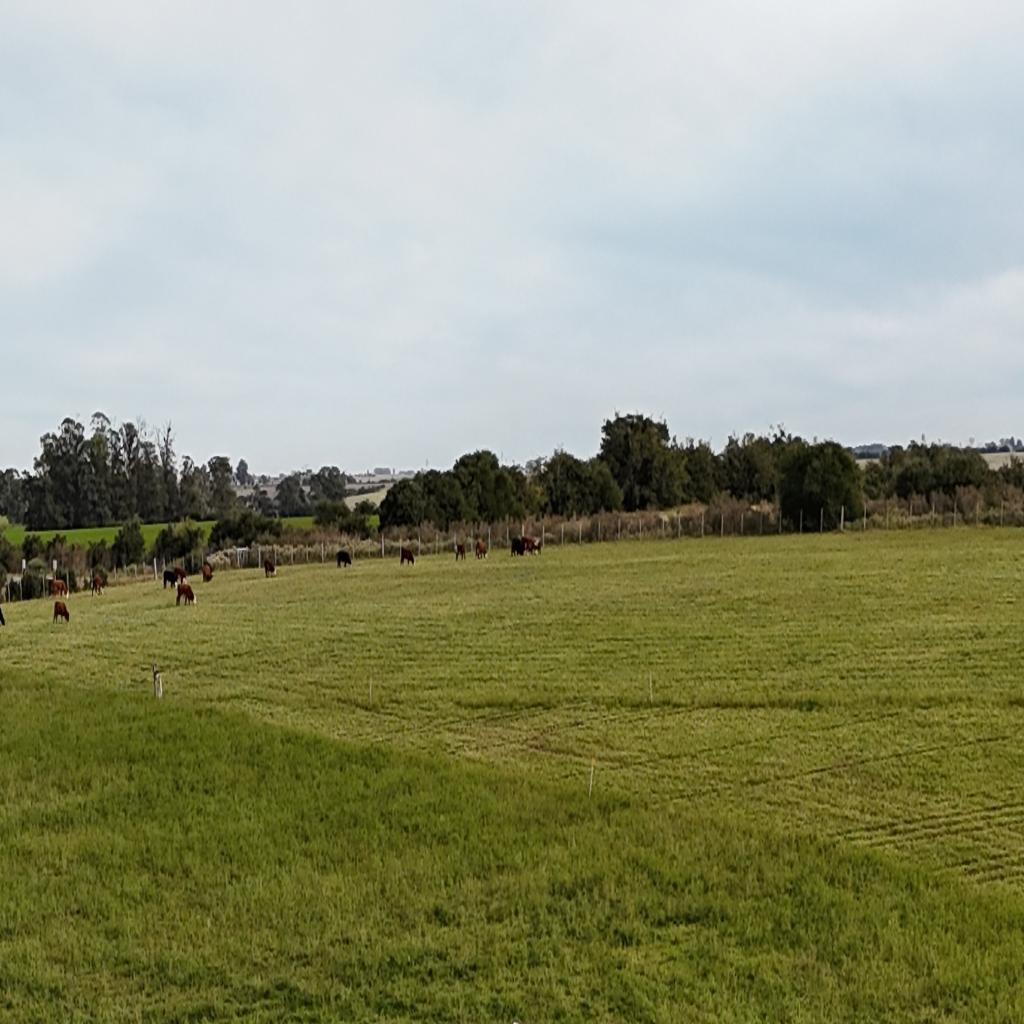cow: (175, 583, 195, 606), (522, 536, 542, 556), (54, 600, 70, 624), (49, 578, 68, 597), (92, 573, 106, 596), (162, 569, 178, 589), (399, 548, 416, 566), (336, 550, 352, 568), (475, 540, 488, 560), (511, 537, 524, 556), (263, 558, 276, 577), (202, 562, 213, 582), (455, 543, 466, 561)
